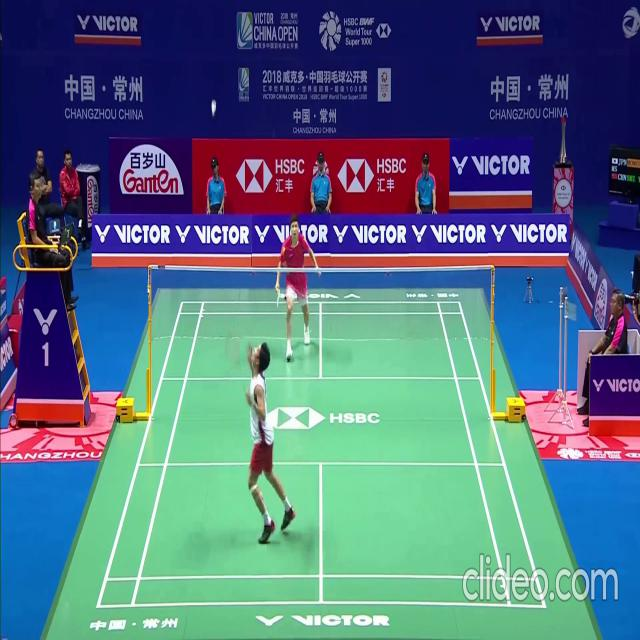Shuttlecock: (211, 110, 216, 118)
